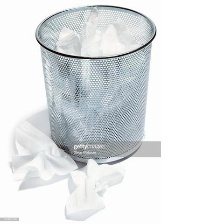tissue: (46, 3, 151, 154), (3, 101, 82, 194), (57, 154, 126, 223)
